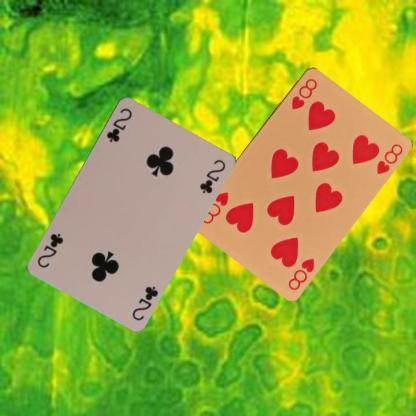2c: (130, 283, 160, 322), (104, 105, 134, 143)
8h: (285, 255, 316, 291), (288, 75, 319, 110)
